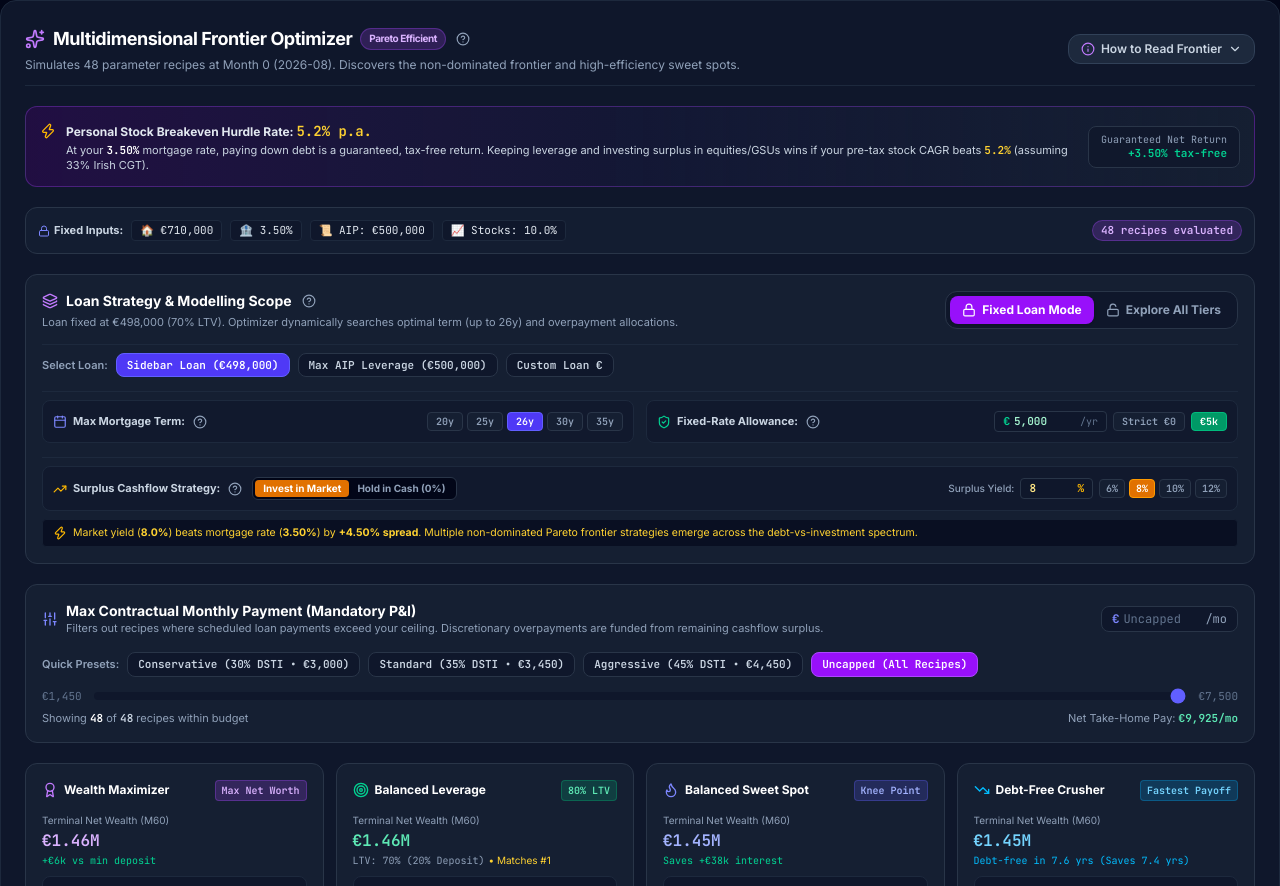
FrontierOptimizerCard Component & Custom Loan Reproduction › clamps custom loan to statutory maximum 90% LTV (€639,000 on €710,000 property)
The width and height of the screenshot is (1280, 886).
Click the button "Custom Loan €". click: click(560, 365)
box: top-left (506, 353), bottom-right (614, 377)
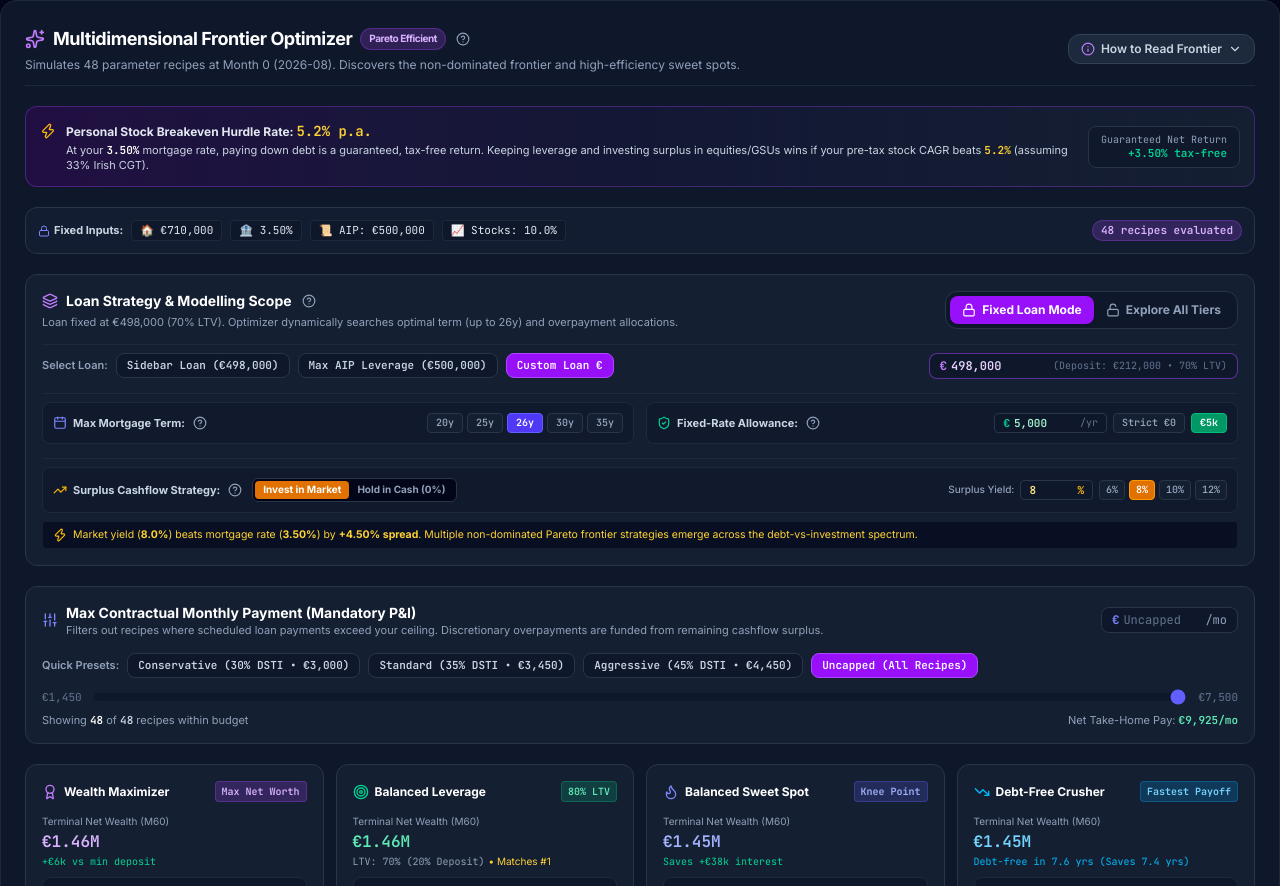
User tries to enter €700,000 (which exceeds Irish 90% LTV limit of €639,000)
Replace the text in the field showing "498,000" next to "(Deposit: €" with "700000". click: (999, 366)
box: top-left (951, 358), bottom-right (1047, 374)
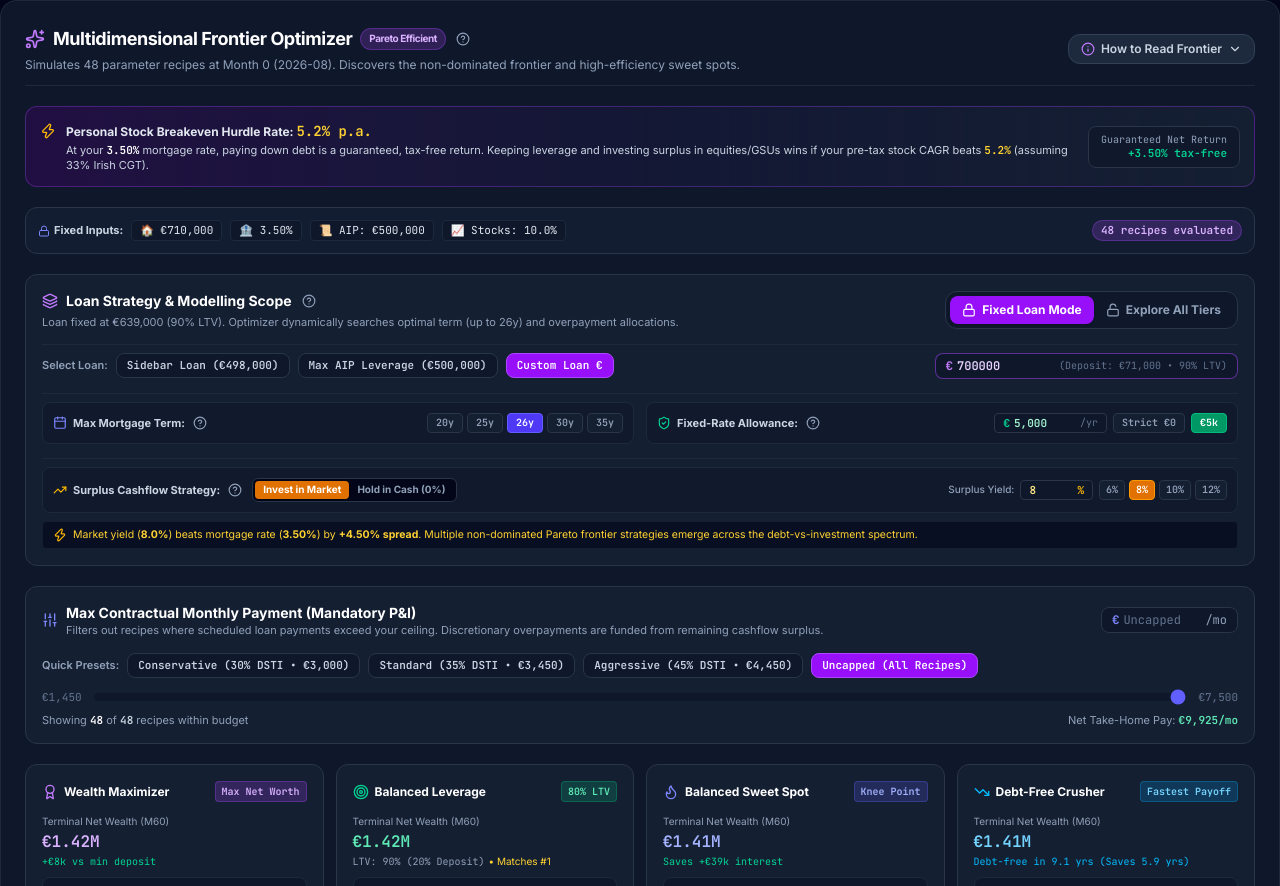
Leave the field showing "498,000" next to "(Deposit: €", box top-left (957, 358), bottom-right (1053, 374)
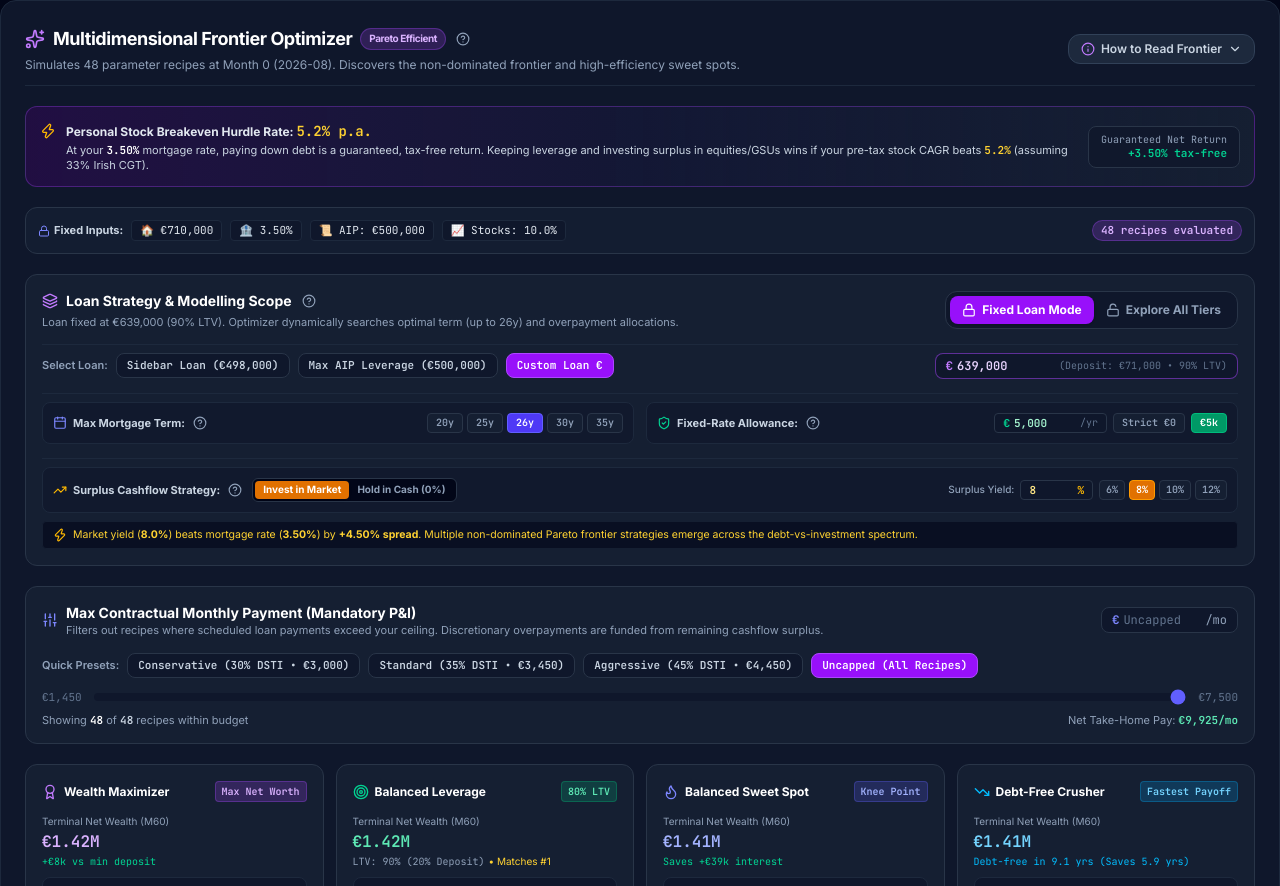
Result: the text "(Deposit: €71,000 • 90% LTV)" is shown at top-left (1059, 359), bottom-right (1227, 372)
Result: the text "Loan fixed at €639,000 (90% LTV)" is shown at top-left (42, 315), bottom-right (679, 329)
Result: the field showing "498,000" next to "(Deposit: €" holds "639,000" at top-left (957, 358), bottom-right (1053, 374)
